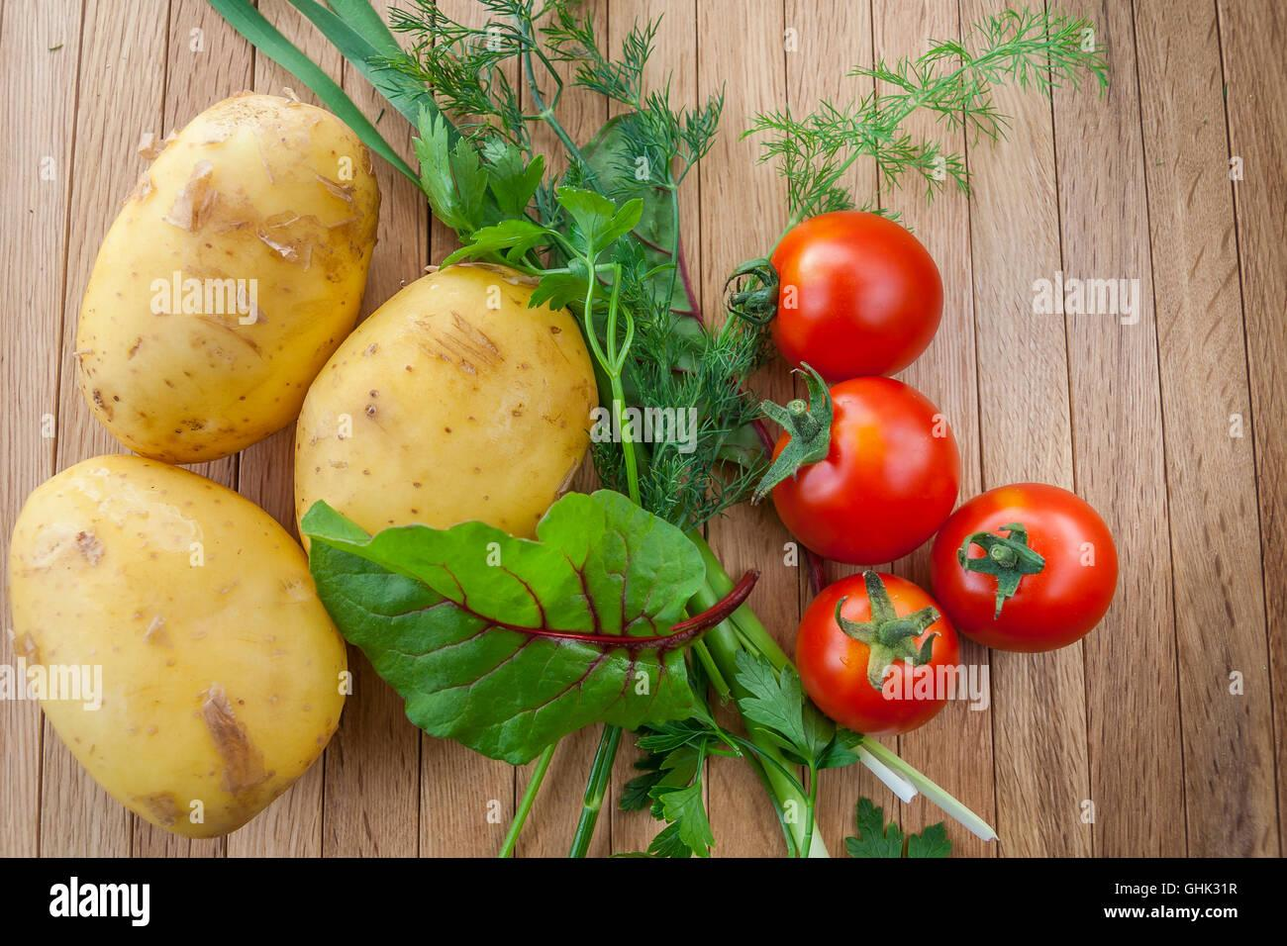apple: (773, 379, 964, 568), (930, 479, 1121, 651), (775, 212, 948, 386)
potato: (50, 79, 541, 767)
toamto: (772, 550, 1024, 764)
